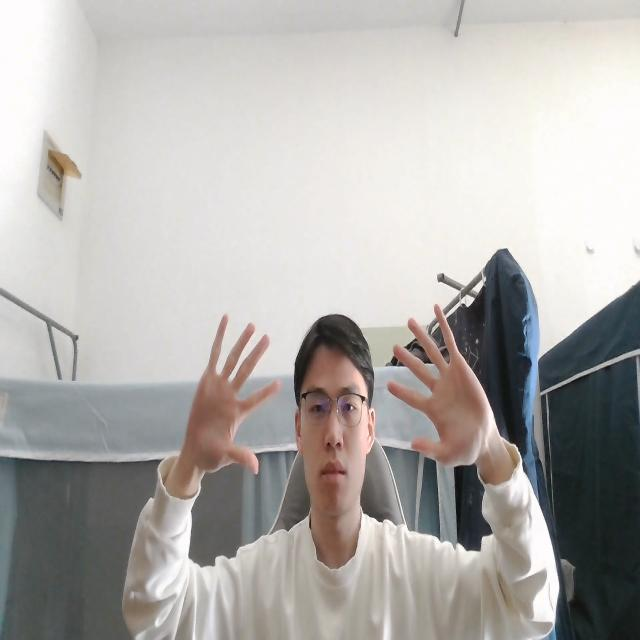five: (384, 302, 496, 472), (177, 310, 282, 483)
